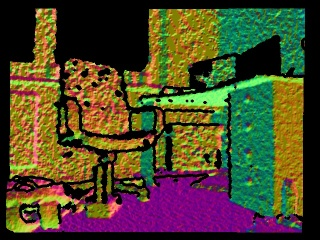station: (85, 162, 122, 219)
